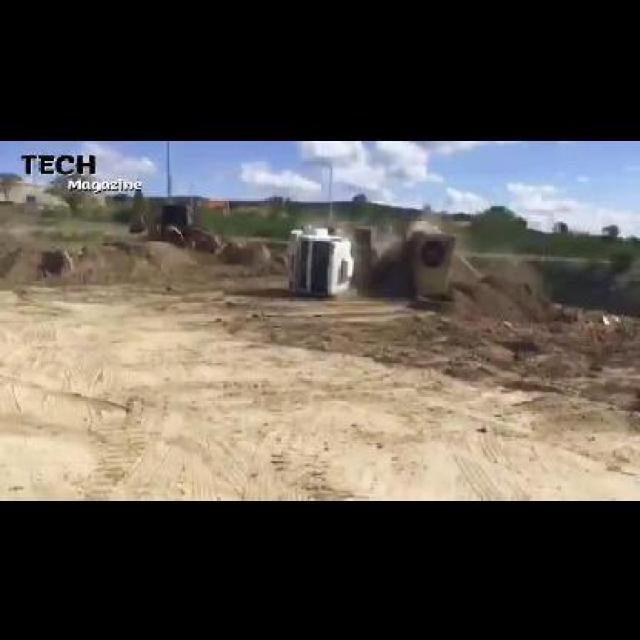accident: (283, 213, 465, 301)
